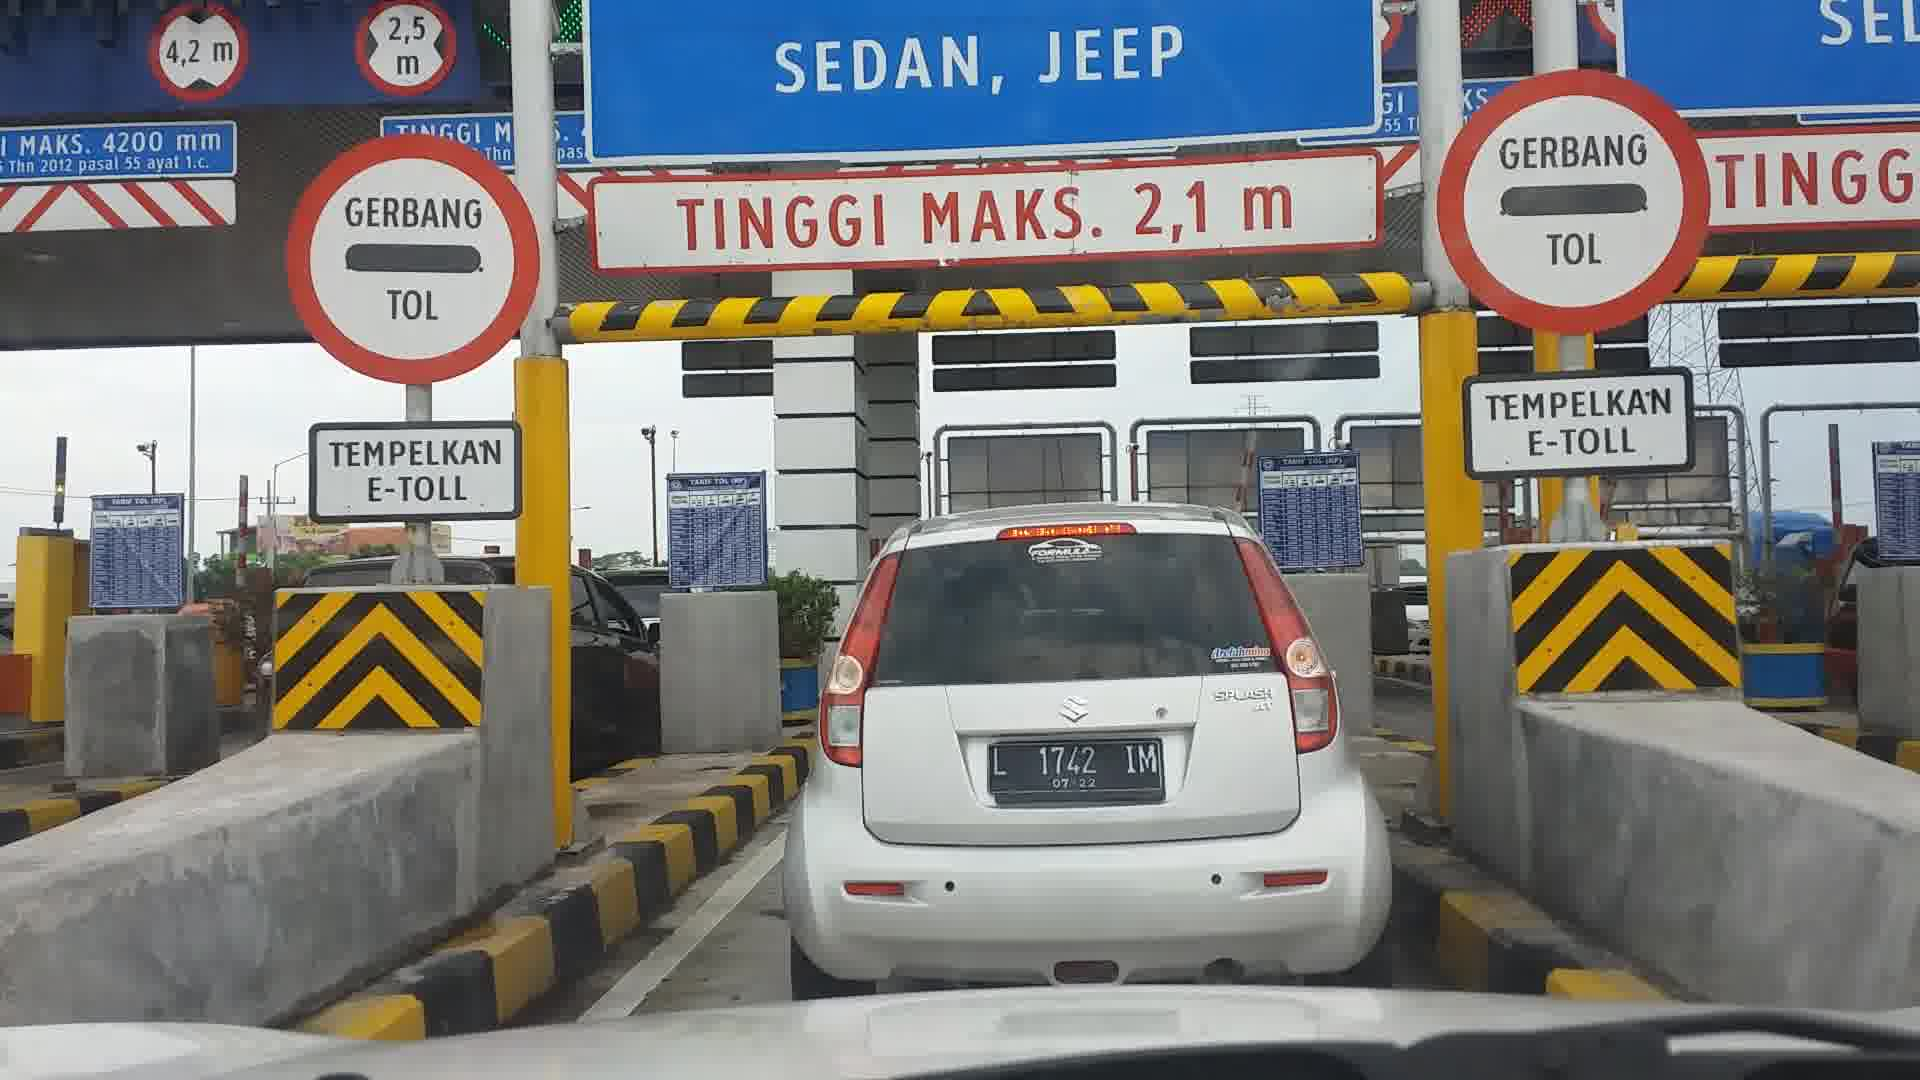plate_positive: (986, 736, 1164, 808)
